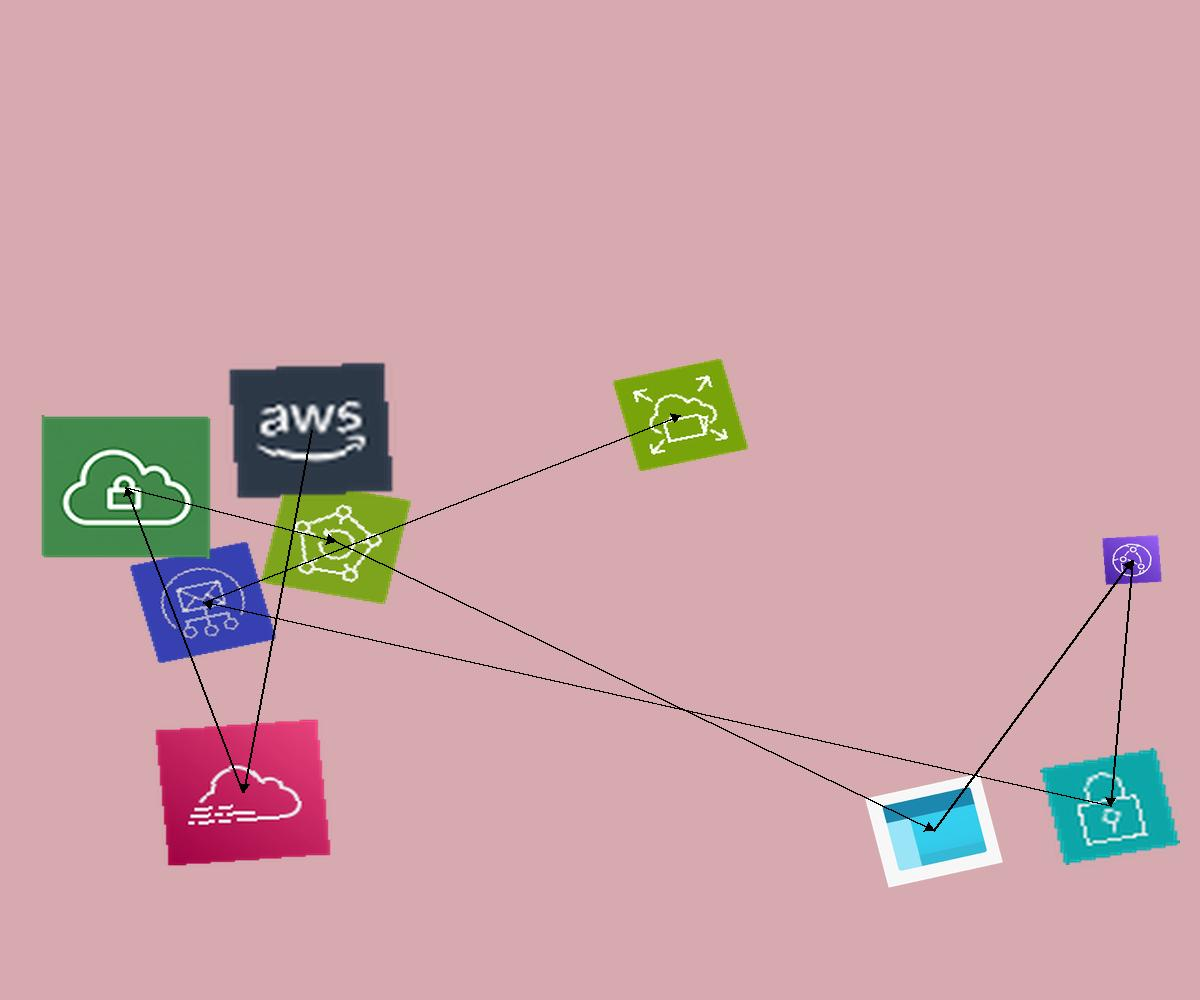AWS-Backup: (260, 478, 412, 605)
AWS-Cloud-logo: (226, 360, 396, 501)
AWS-CloudFront: (1102, 535, 1162, 585)
AWS-CloudTrail: (154, 718, 332, 867)
AWS-EFS: (612, 358, 749, 472)
AWS-Private-subnet: (1040, 748, 1180, 865)
AWS-Private_vpc: (40, 415, 212, 559)
AWS-Simple-Email-Service: (129, 541, 277, 664)
Azure_management-portal: (865, 773, 1003, 888)
